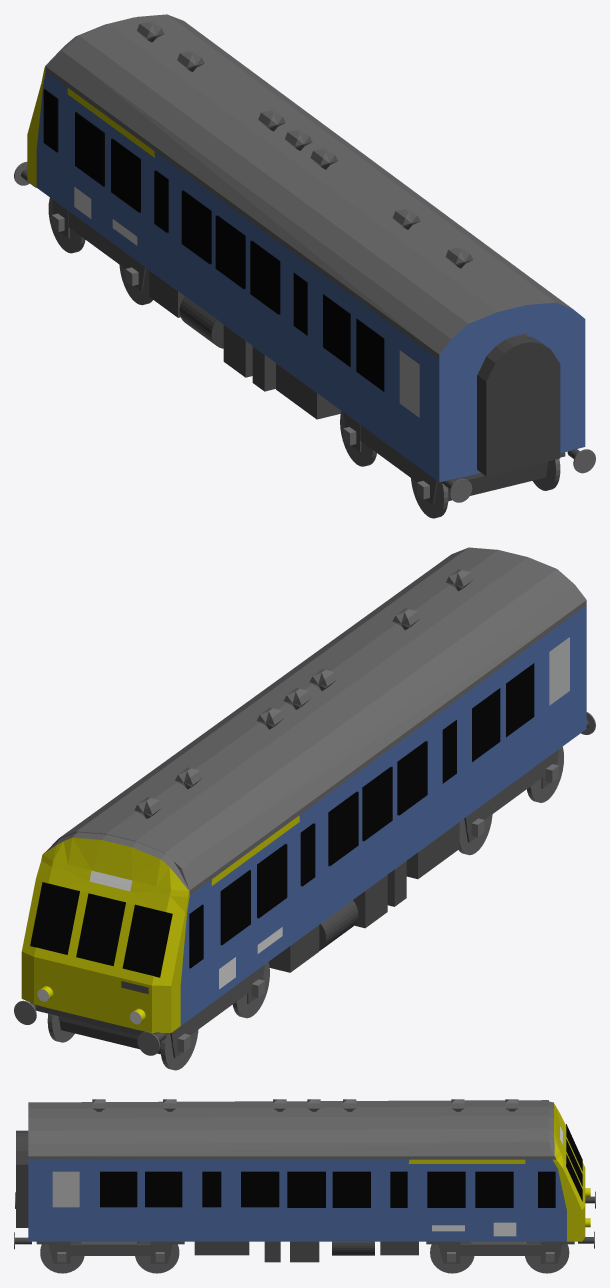
File: BR-101-dtcl-b.dae
The picture shows the model from 3 angles, top to bottom: view 1: azimuth 30°, elevation 25°; view 2: azimuth 150°, elevation 25°; view 3: azimuth 270°, elevation 25°; orthographic projection. The views are drawn at different scales.
Parts seen in each view (by area): view 1: BR-cl101-front_rear, Cube, Cube_060_001, Cube_001, Cube_043, Cube_043_001, Cylinder_002, Cube_003, Cube_004, Cube_002, Cylinder_011_001; view 2: BR-cl101-front_rear, Cube_043, Cube_001, Cube_043_001, Cube_004, Cube_003, Cube_061, Cylinder_002, Cylinder_010, Cube_002; view 3: BR-cl101-front_rear, Cube_043, Cube_043_001, Cube, Cube_001, Cube_003, Cylinder_008_001, Cylinder_003, Cylinder_008, Cylinder_009_001, Cylinder_009, Cube_004 (+6 smaller).
Part boxes in pixels (x1,y1,x2,y2): BR-cl101-front_rear: (27, 14, 585, 482); Cube: (477, 335, 560, 476); Cube_060_001: (425, 452, 565, 504); Cube_001: (276, 363, 341, 419); Cube_043: (53, 211, 142, 281); Cube_043_001: (360, 425, 433, 494); Cylinder_002: (179, 296, 223, 348); Cube_003: (223, 325, 252, 377); Cube_004: (149, 270, 184, 317); Cube_002: (252, 346, 275, 391); Cylinder_011_001: (411, 478, 448, 518); BR-cl101-front_rear: (21, 547, 586, 1035); Cube_043: (58, 967, 262, 1047); Cube_001: (406, 822, 459, 879); Cube_043_001: (465, 751, 556, 832); Cube_004: (268, 925, 319, 972); Cube_003: (353, 875, 387, 928); Cube_061: (59, 1020, 187, 1057); Cylinder_002: (319, 900, 358, 950); Cylinder_010: (160, 1030, 198, 1070); Cube_002: (387, 861, 406, 906); BR-cl101-front_rear: (28, 1099, 585, 1241); Cube_043: (460, 1241, 560, 1255); Cube_043_001: (70, 1241, 170, 1255); Cube: (16, 1130, 28, 1227); Cube_001: (194, 1241, 249, 1255); Cube_003: (290, 1241, 319, 1262); Cylinder_008_001: (40, 1241, 84, 1273); Cylinder_003: (332, 1241, 374, 1255); Cylinder_008: (430, 1241, 474, 1273); Cylinder_009_001: (135, 1241, 179, 1273); Cylinder_009: (525, 1241, 569, 1273); Cube_004: (380, 1241, 418, 1255).
Bounding box in the file's own units: 2.04 × 10.32 × 3.05.
